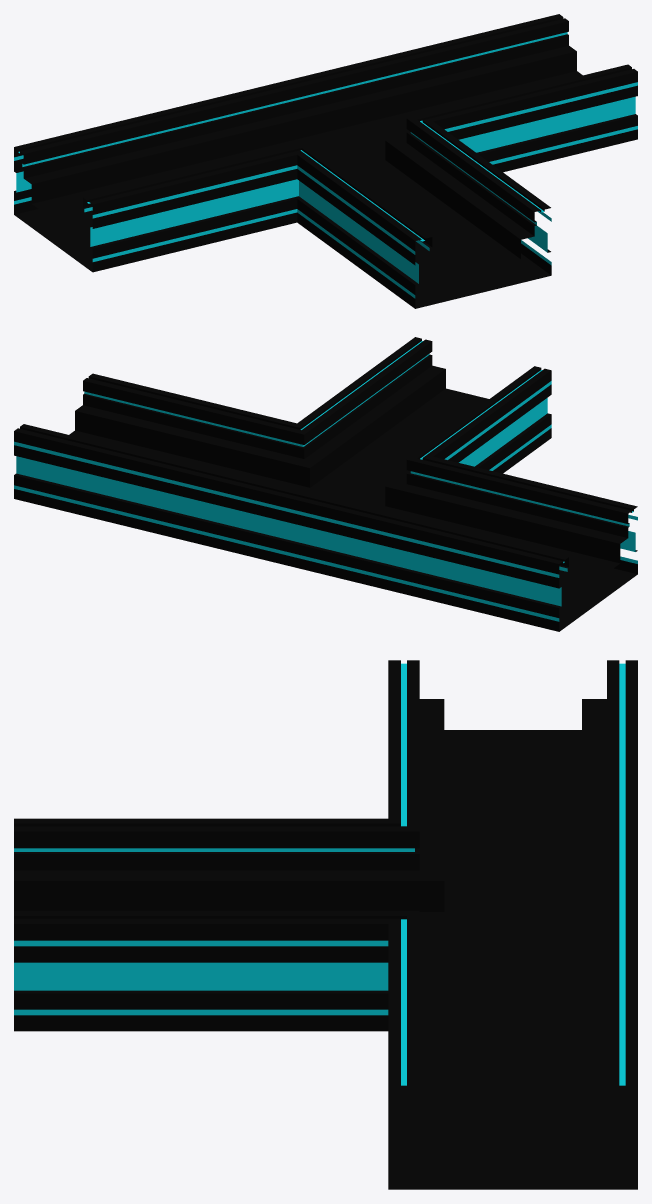
The picture shows the model from 3 angles, top to bottom: view 1: azimuth 30°, elevation 25°; view 2: azimuth 150°, elevation 25°; view 3: azimuth 270°, elevation 25°; orthographic projection. The views are drawn at different scales.
Visible parts, largest first — view 1: T; view 2: T; view 3: T.
Boxes of the visible parts, x1,y1,x2,y2 form: T: (14,14,637,308); T: (14,337,637,631); T: (14,660,637,1189).
Size of the model in its own units: 20 by 2.38 by 12.5.
